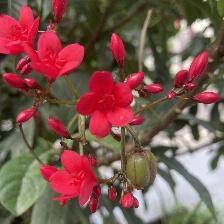jatropha: (77, 72, 137, 139), (22, 30, 89, 81), (47, 148, 99, 213)
